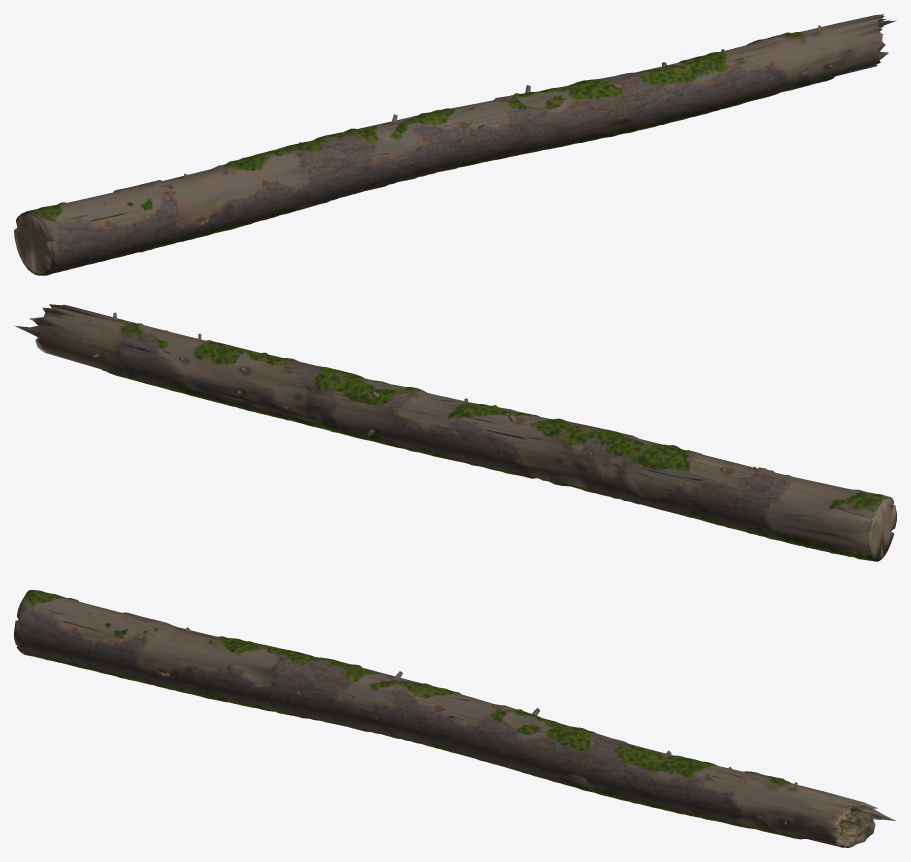
The model's file is FallenLog.glb.
3 views of the same model, one above another, from view 1: azimuth 30°, elevation 25°; view 2: azimuth 150°, elevation 25°; view 3: azimuth 330°, elevation 25° (orthographic).
Parts seen in each view (by area): view 1: fallen-log; view 2: fallen-log; view 3: fallen-log.
Part boxes in pixels (x1,y1,x2,y2): fallen-log: (14, 14, 896, 275); fallen-log: (14, 304, 896, 561); fallen-log: (14, 590, 895, 847).
Size of the model in its own units: 6.32 by 0.446 by 0.4792.
Materials: 1 (1 with a texture image).
